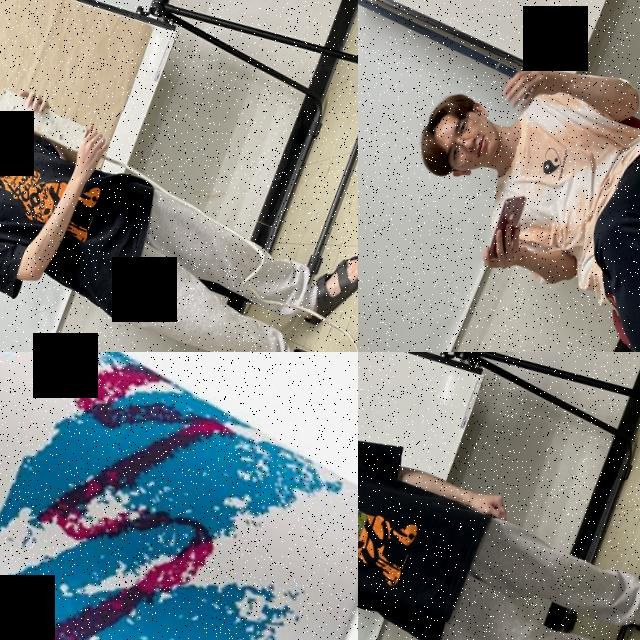cup: (0, 352, 358, 640)
